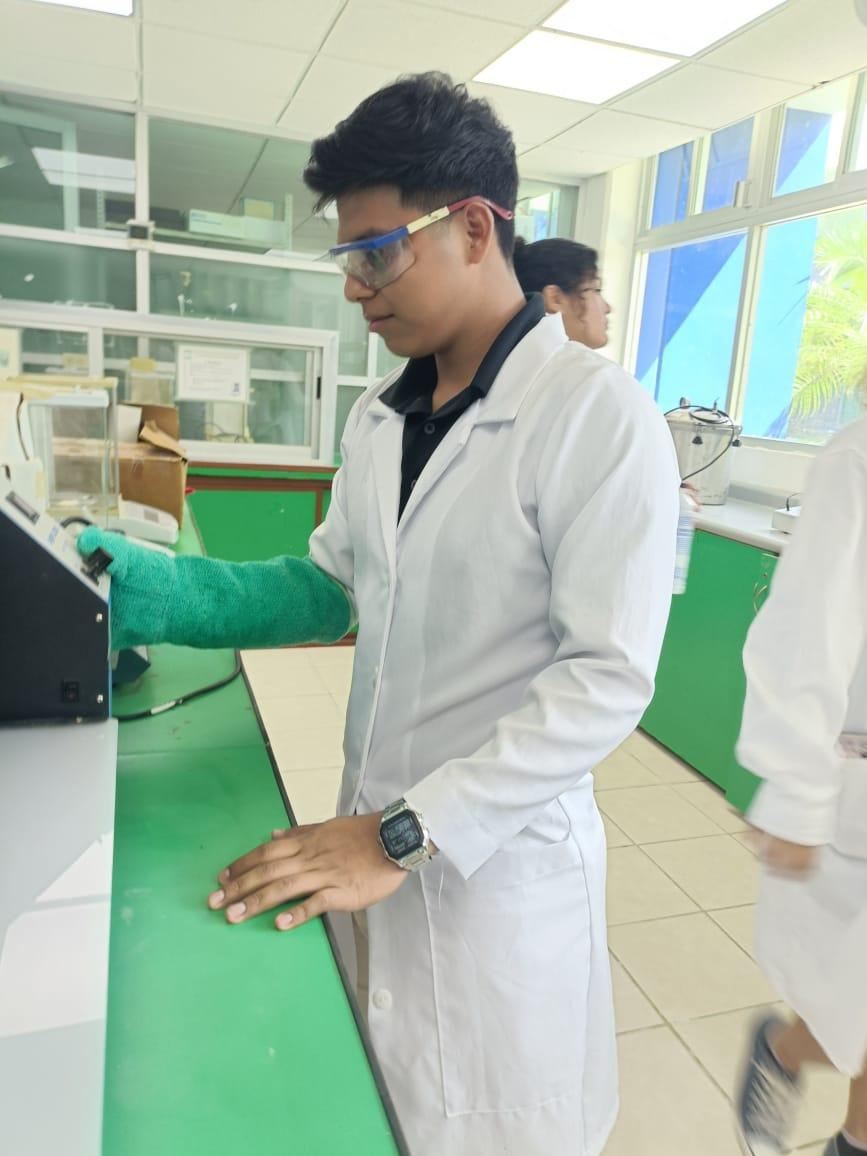Bata-Correcta: (102, 73, 679, 1155)
